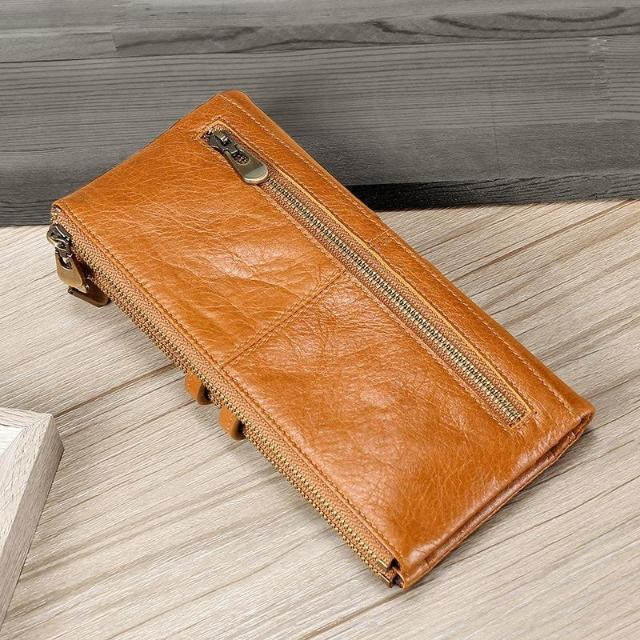wallet: (44, 84, 592, 592)
